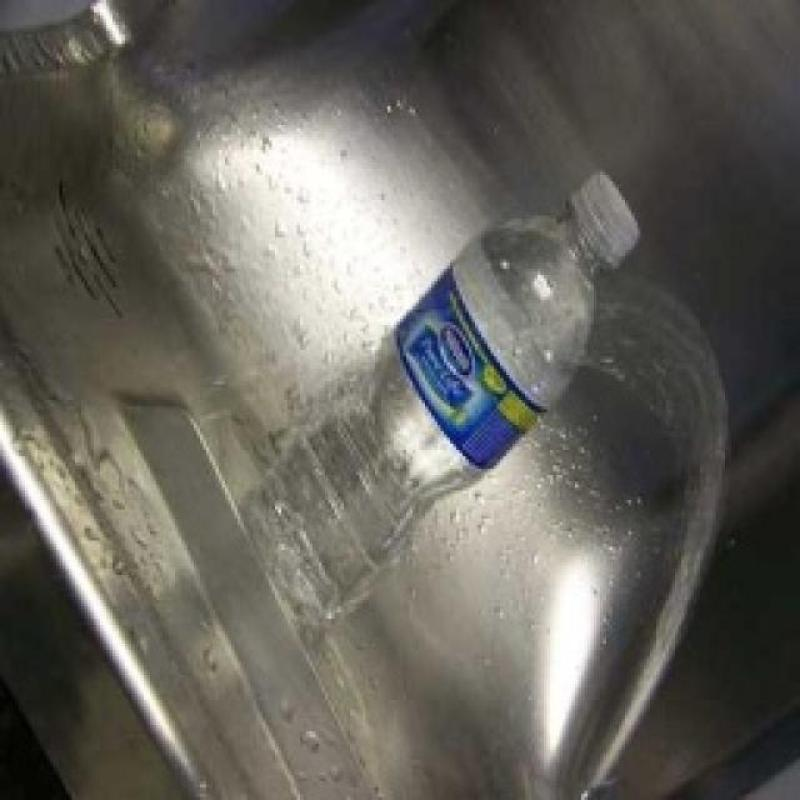botella: (254, 173, 644, 617)
